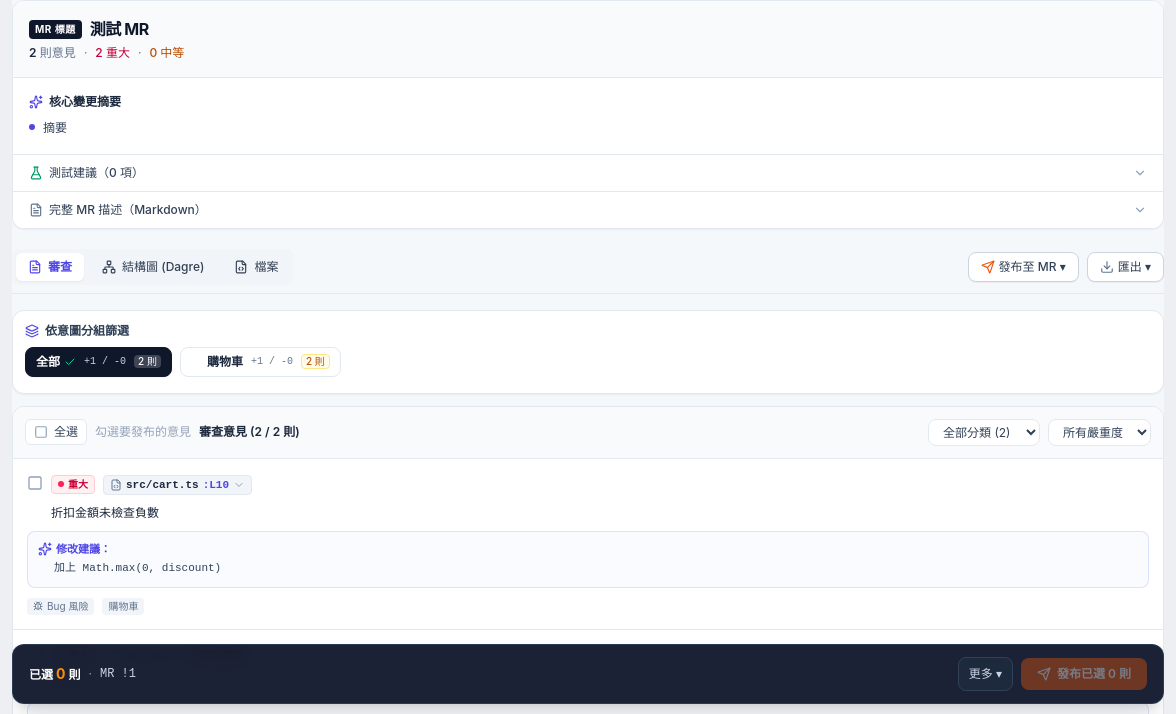
點停用的按鈕時說明原因（手機看不到 title） › 「發布已選 0 則」停用時點擊，發布列上方說明要先勾選；勾選後按鈕可用
The image size is (1176, 714).
Click the element showing "發布已選 0 則" at point(1084, 674), box [1021,658,1147,690]
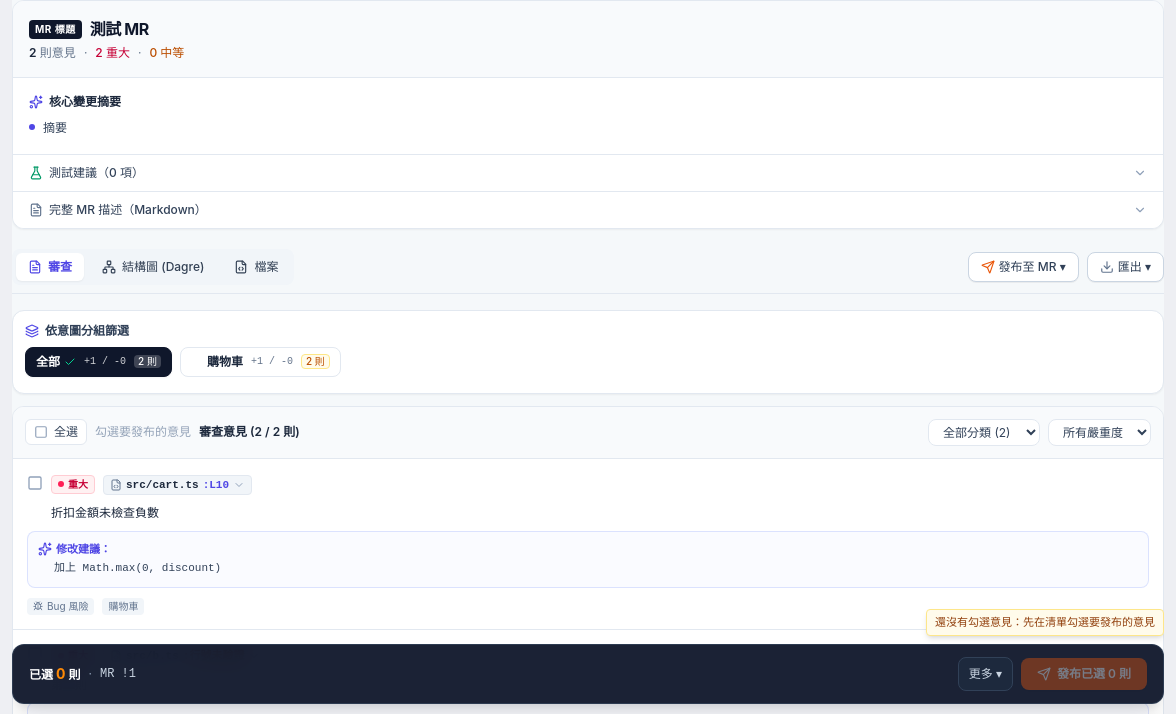
Result: the message "還沒有勾選意見：先在清單勾選要發布的意見" is shown at [926,610,1164,636]
Click the button named "勾選此意見：src/cart.ts:L10" at point(35, 482), box [27,474,43,490]
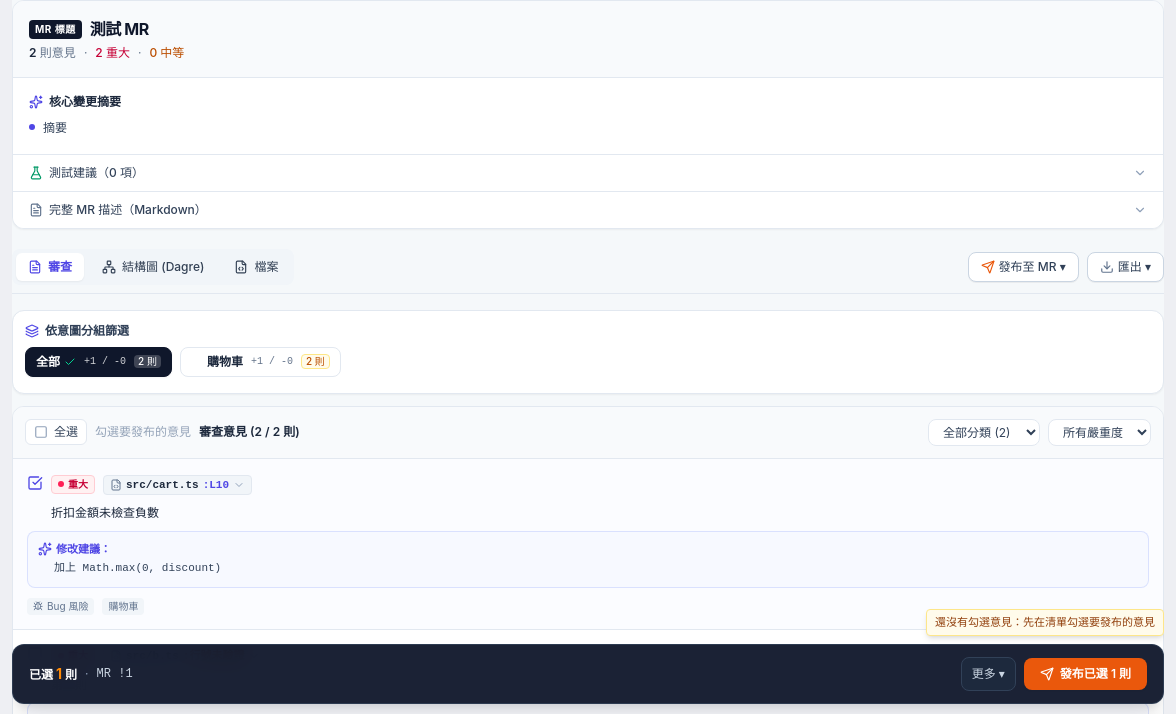
Result: the button "發布已選 1 則" is enabled at [1024,658,1147,690]
